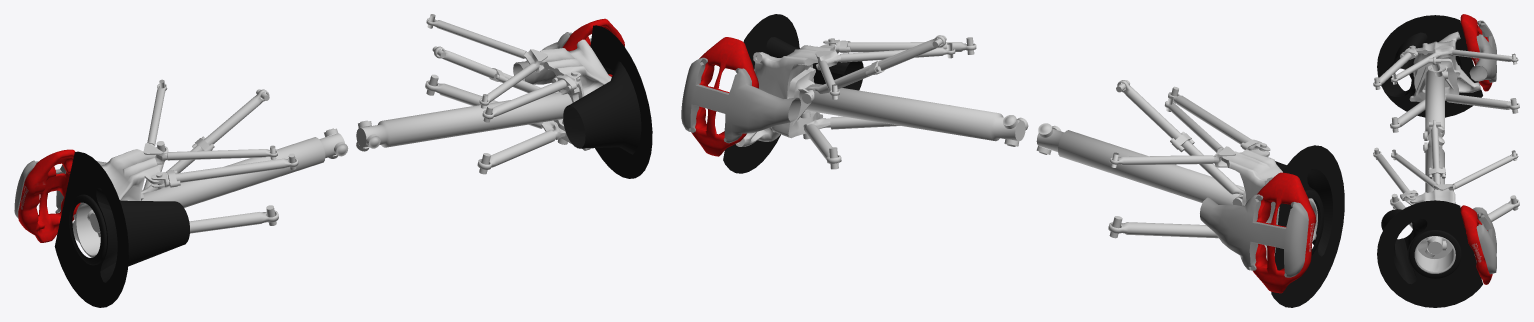
File: 424_Suspensions.fbx
3 renders of one model, left to right at view 1: azimuth 30°, elevation 25°; view 2: azimuth 150°, elevation 25°; view 3: azimuth 270°, elevation 25°, orthographic. The views are drawn at different scales.
Visible parts, largest first — view 1: 424_FR_BrakeDiskDuct, 424_FL_BrakeDiskDuct, 424_FL_Suspension, 424_FR_suspension, 424_FL_DriveShaft, 424_FR_DriveShaft, 424_FR_BrakeCalliper, 424_FR_Uprigt, 424_FL_Uprigt, 424_FL_BrakeDuct, 424_FL_BrakeCalliper, 424_FR_Brake_Duct; view 2: 424_FR_suspension, 424_FL_DriveShaft, 424_FR_BrakeDiskDuct, 424_FL_Suspension, 424_FR_DriveShaft, 424_FL_BrakeDuct, 424_FR_Brake_Duct, 424_FL_Uprigt, 424_FL_BrakeDiskDuct, 424_FR_BrakeCalliper, 424_FL_BrakeCalliper, 424_FR_Uprigt; view 3: 424_FL_BrakeDiskDuct, 424_FR_BrakeDiskDuct, 424_FR_suspension, 424_FL_Suspension, 424_FR_Uprigt, 424_FL_Uprigt, 424_FR_DriveShaft, 424_FR_Brake_Duct, 424_FL_BrakeCalliper, 424_FL_BrakeDuct, 424_FL_DriveShaft, 424_FR_BrakeCalliper.
Part boxes in pixels (box(x1,y1,x2,y2)): 424_FR_BrakeDiskDuct: box(54, 151, 189, 307); 424_FL_BrakeDiskDuct: box(563, 25, 652, 178); 424_FL_Suspension: box(425, 14, 580, 174); 424_FR_suspension: box(141, 79, 298, 233); 424_FL_DriveShaft: box(356, 92, 572, 151); 424_FR_DriveShaft: box(87, 128, 348, 237); 424_FR_BrakeCalliper: box(18, 149, 80, 242); 424_FR_Uprigt: box(72, 149, 161, 257); 424_FL_Uprigt: box(539, 39, 611, 150); 424_FL_BrakeDuct: box(513, 32, 591, 84); 424_FL_BrakeCalliper: box(562, 18, 624, 76); 424_FR_Brake_Duct: box(14, 160, 106, 218); 424_FR_suspension: box(1108, 80, 1270, 238); 424_FL_DriveShaft: box(805, 83, 1028, 146); 424_FR_BrakeDiskDuct: box(1271, 145, 1344, 307); 424_FL_Suspension: box(800, 35, 976, 169); 424_FR_DriveShaft: box(1036, 123, 1244, 204); 424_FL_BrakeDuct: box(681, 57, 800, 143); 424_FR_Brake_Duct: box(1200, 194, 1308, 277); 424_FL_Uprigt: box(735, 44, 834, 146); 424_FL_BrakeDiskDuct: box(723, 14, 863, 173); 424_FR_BrakeCalliper: box(1253, 172, 1316, 293); 424_FL_BrakeCalliper: box(691, 37, 758, 156); 424_FR_Uprigt: box(1221, 149, 1317, 260); 424_FL_BrakeDiskDuct: box(1377, 200, 1482, 307); 424_FR_BrakeDiskDuct: box(1377, 15, 1482, 117); 424_FR_suspension: box(1373, 45, 1519, 132); 424_FL_Suspension: box(1373, 120, 1519, 228); 424_FR_Uprigt: box(1409, 31, 1481, 102); 424_FL_Uprigt: box(1409, 188, 1455, 273); 424_FR_DriveShaft: box(1423, 70, 1444, 144); 424_FR_Brake_Duct: box(1469, 20, 1496, 82); 424_FL_BrakeCalliper: box(1460, 205, 1492, 284); 424_FL_BrakeDuct: box(1473, 207, 1496, 274); 424_FL_DriveShaft: box(1423, 136, 1446, 257); 424_FR_BrakeCalliper: box(1460, 14, 1492, 91).
Bounding box in the file's own units: 1.75 × 0.4736 × 0.5066.
